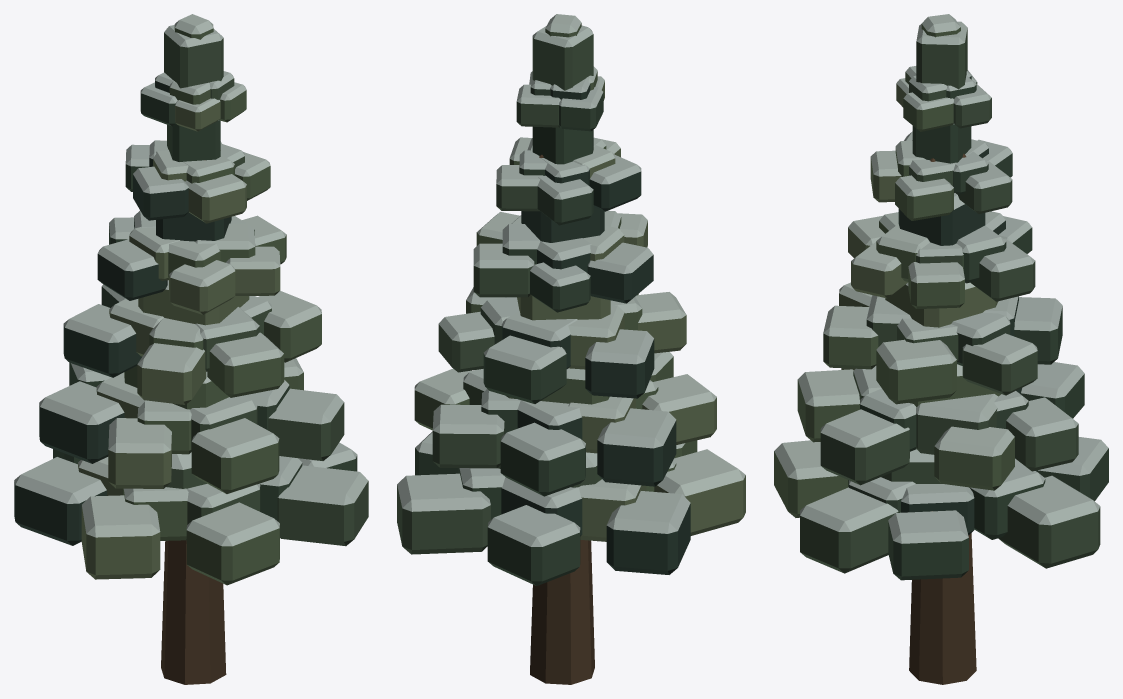
File: pine_mature_winter_2.glb
3 renders of one model, left to right at view 1: azimuth 30°, elevation 25°; view 2: azimuth 150°, elevation 25°; view 3: azimuth 270°, elevation 25°, orthographic.
Parts seen in each view (by area): view 1: pine_mature_winter_2; view 2: pine_mature_winter_2; view 3: pine_mature_winter_2.
Part boxes in pixels (x1=…): pine_mature_winter_2: x1=14, y1=14, x2=368, y2=684; pine_mature_winter_2: x1=397, y1=14, x2=745, y2=684; pine_mature_winter_2: x1=774, y1=14, x2=1108, y2=684.
Size of the model in its own units: 9.32 by 20 by 9.32.
